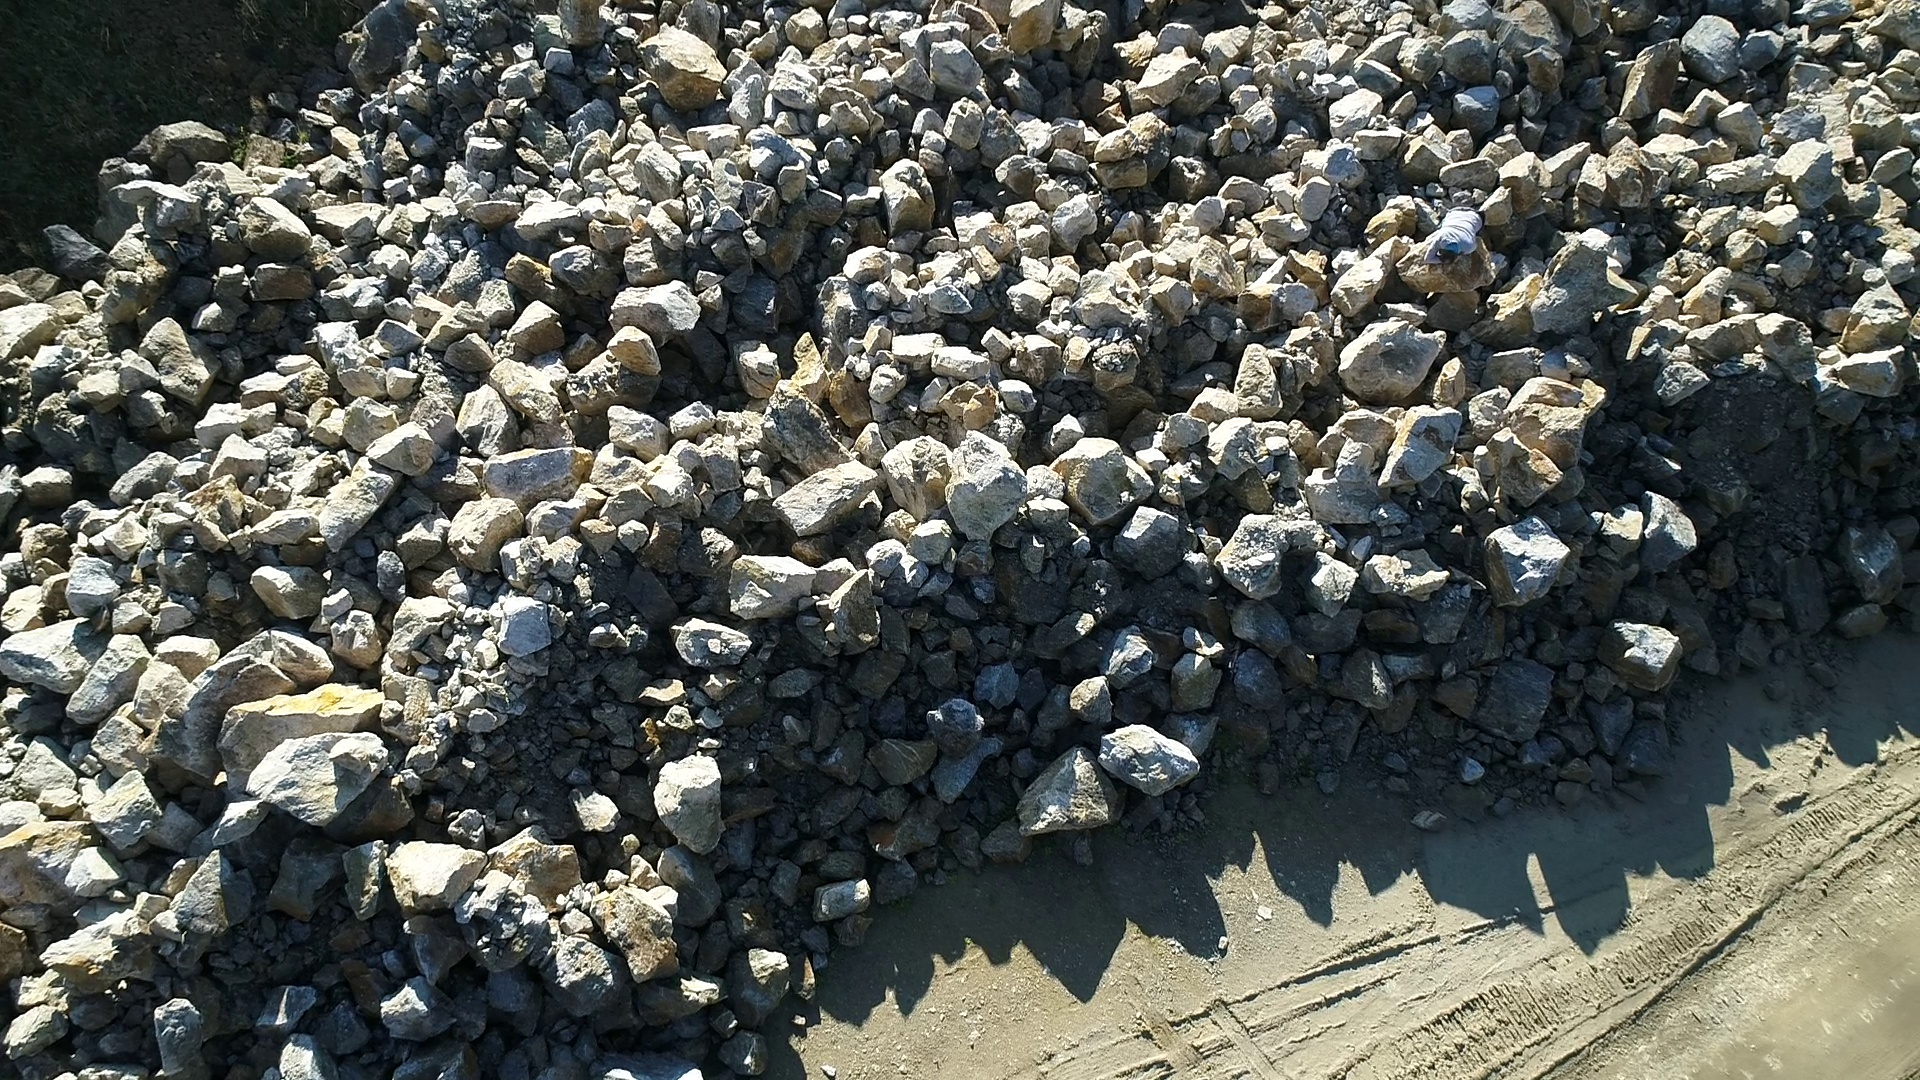person: (1421, 204, 1488, 269)
